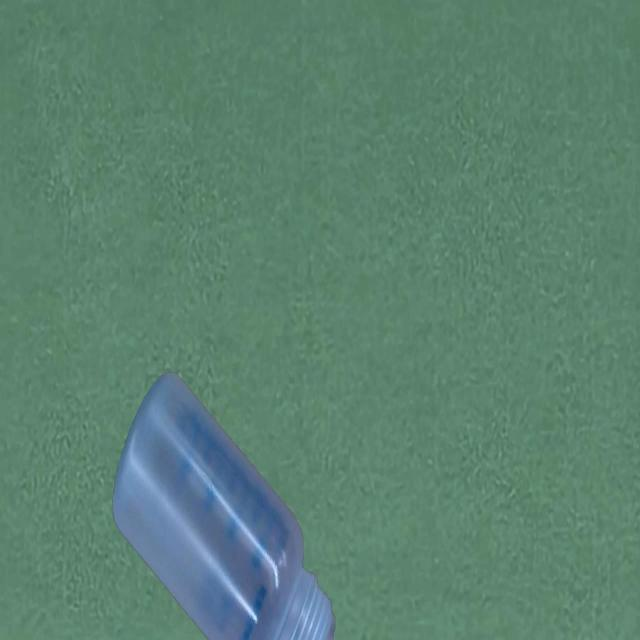bottle: (110, 367, 336, 640)
